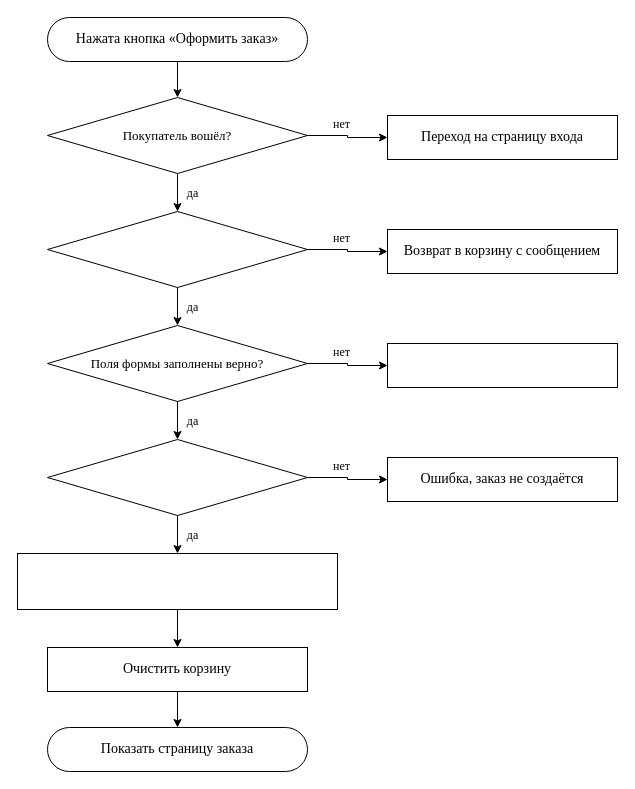
Image size: 635x789. Some labels were removed from this diagram. The shapes that lost their labels are listed below. From the top down, each one's centre as x and y in pixels, then its label:
At point (177, 249): "Корзина не пуста?".
At point (502, 365): "Показать ошибки под полями".
At point (177, 477): "Товаров на складе хватает?".
At point (177, 581): "В одной транзакции: создать заказ и позиции, списать товар со склада".
